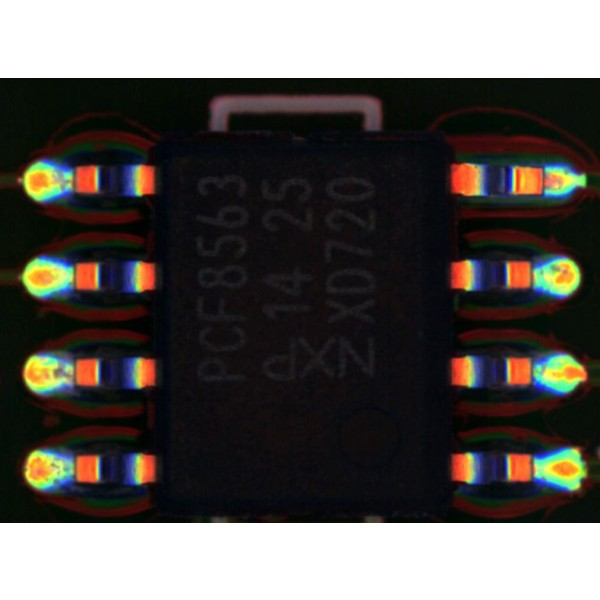Bad_podu: (531, 170, 566, 190)
